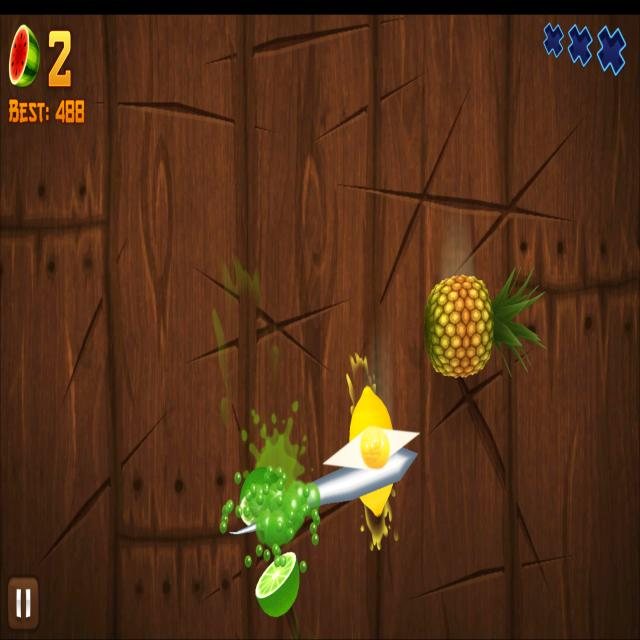fruit: (424, 272, 494, 381)
